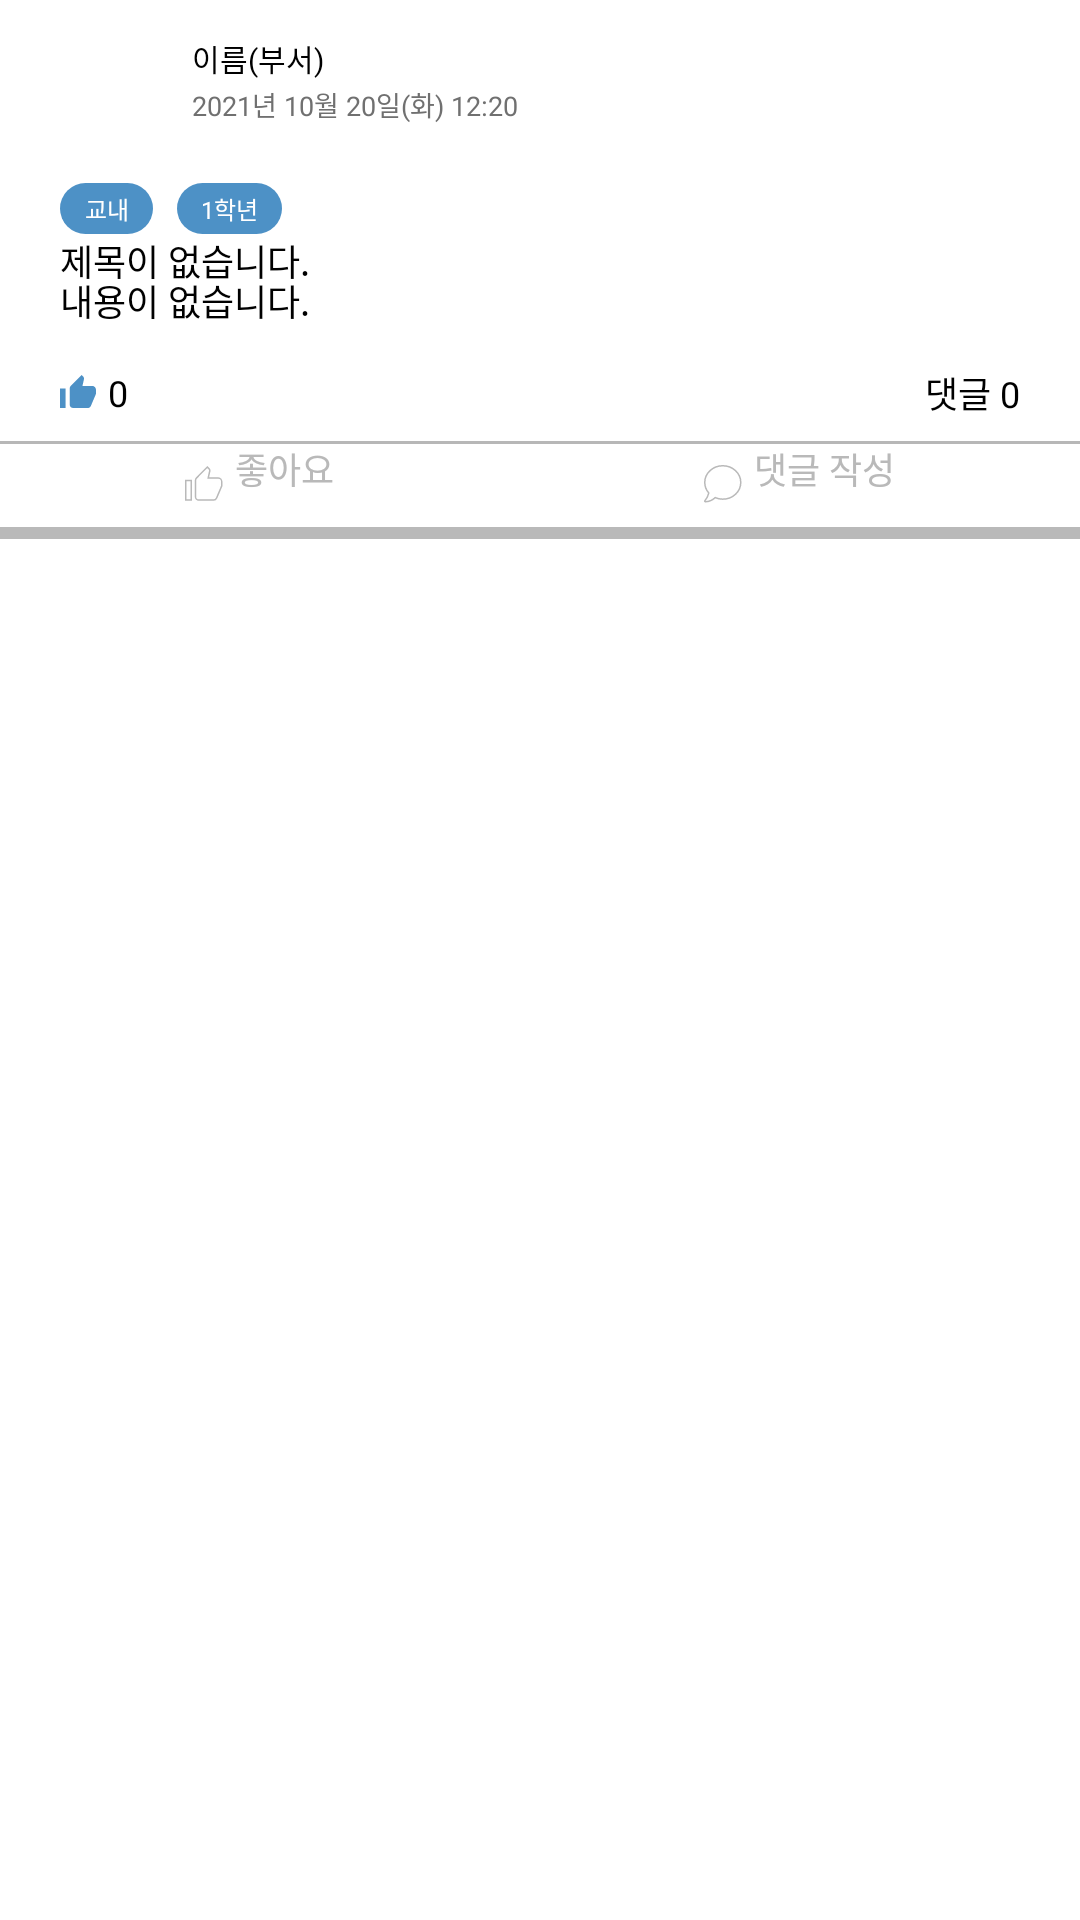

Icons on this 1080 x 1920 Android screen, each with the point to tap as point (x, y):
chat empty: point (723, 484)
like full: point (78, 391)
